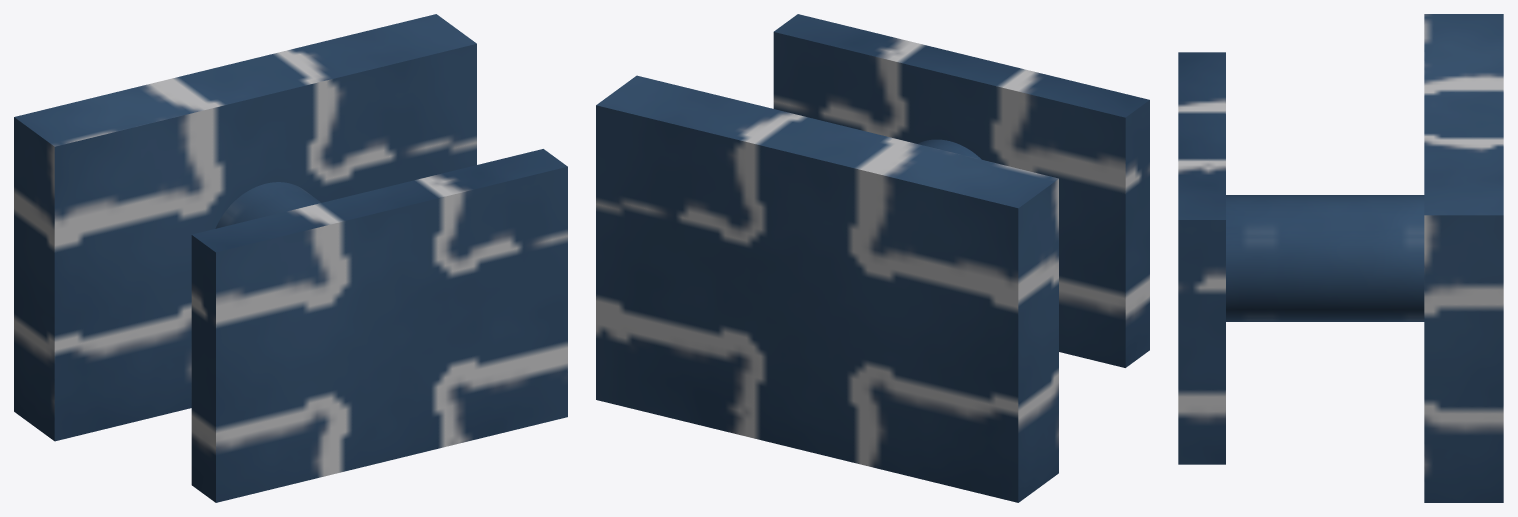
3 renders of one model, left to right at view 1: azimuth 30°, elevation 25°; view 2: azimuth 150°, elevation 25°; view 3: azimuth 270°, elevation 25°, orthographic. The views are drawn at different scales.
Parts seen in each view (by area): view 1: assembly; view 2: assembly; view 3: assembly.
Boxes of the visible parts, bbox=[...] form: assembly: bbox=[14, 14, 567, 502]; assembly: bbox=[596, 14, 1149, 502]; assembly: bbox=[1178, 14, 1503, 502].
Size of the model in its own units: 60 by 40 by 41.
Materials: 1 (1 with a texture image).
